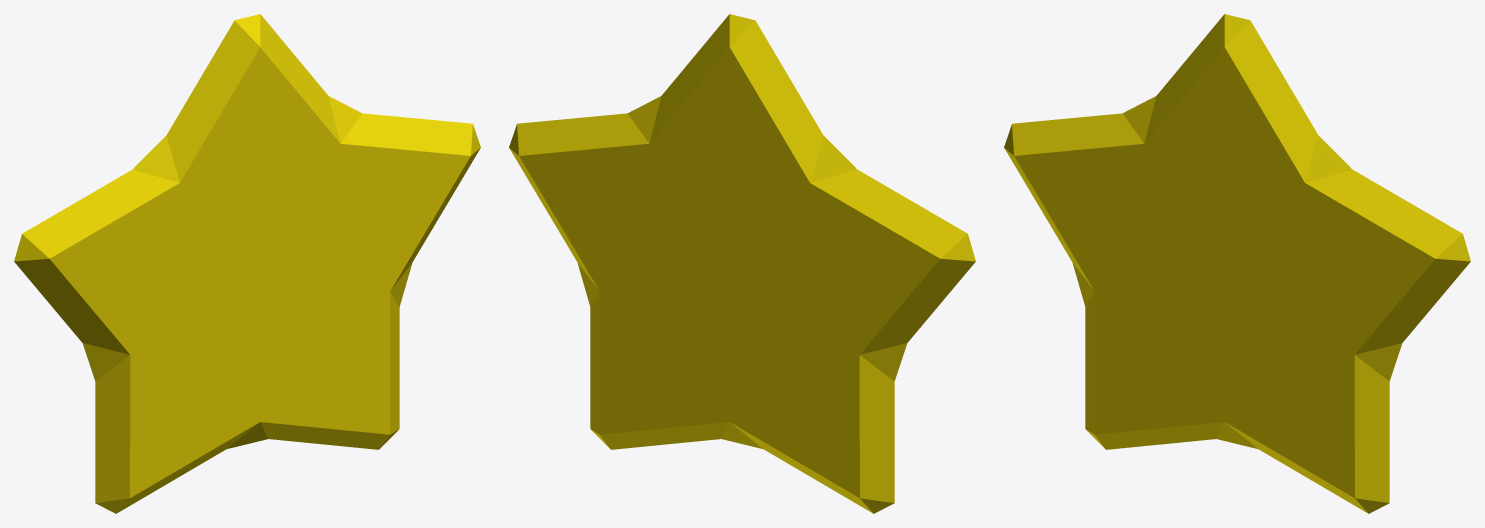
The model's file is Star.fbx.
3 views of the same model, side by side, from view 1: azimuth 30°, elevation 25°; view 2: azimuth 150°, elevation 25°; view 3: azimuth 330°, elevation 25° (orthographic).
Parts seen in each view (by area): view 1: Star; view 2: Star; view 3: Star.
Boxes of the visible parts, x1,y1,x2,y2 form: Star: (14, 14, 480, 513); Star: (509, 14, 975, 513); Star: (1004, 14, 1470, 513).
Size of the model in its own units: 180 by 171 by 17.05.
